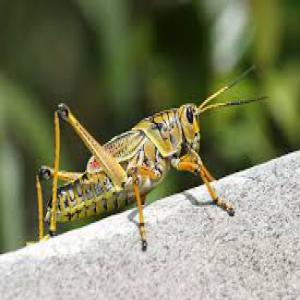locust: (29, 68, 249, 260)
